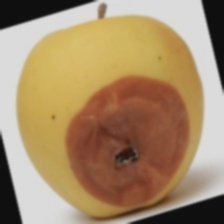apple: (12, 57, 177, 194)
